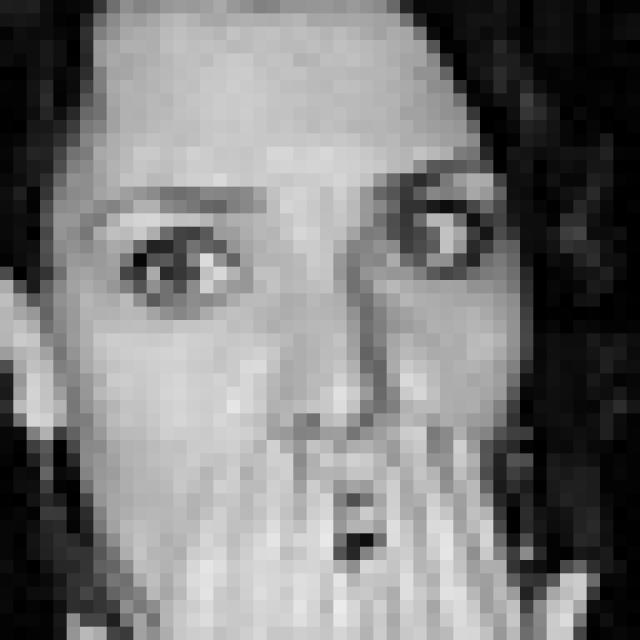fear: (80, 149, 503, 598)
